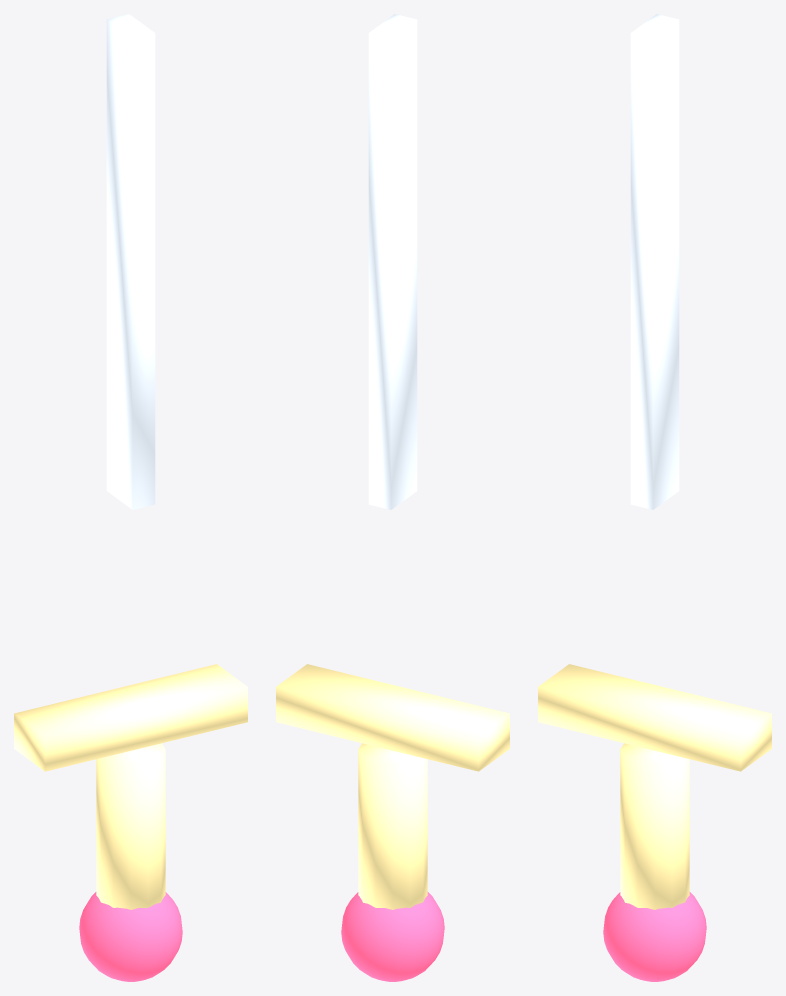
The model's file is sword_floating.glb.
3 renders of one model, left to right at view 1: azimuth 30°, elevation 25°; view 2: azimuth 150°, elevation 25°; view 3: azimuth 330°, elevation 25°, orthographic.
Visible parts, largest first — view 1: sword_blade, Cube, Cylinder, Sphere; view 2: sword_blade, Cube, Cylinder, Sphere; view 3: sword_blade, Cube, Cylinder, Sphere.
Part boxes in pixels (x1,y1,x2,y2): sword_blade: [106, 14, 155, 509]; Cube: [14, 664, 247, 771]; Cylinder: [96, 743, 165, 909]; Sphere: [79, 892, 182, 981]; sword_blade: [368, 14, 417, 509]; Cube: [276, 664, 509, 771]; Cylinder: [358, 743, 427, 909]; Sphere: [341, 892, 444, 981]; sword_blade: [630, 14, 679, 509]; Cube: [538, 664, 771, 771]; Cylinder: [620, 743, 689, 909]; Sphere: [603, 892, 706, 981].
Bounding box in the file's own units: 0.27 × 1.21 × 0.12.
